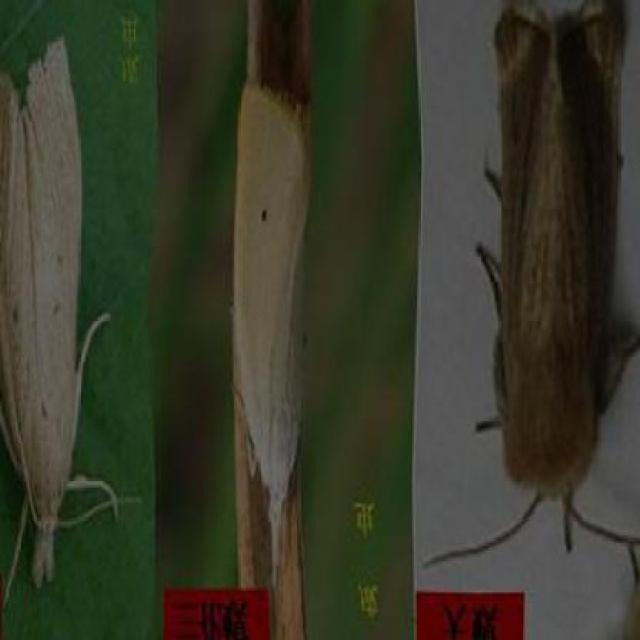stem-borer: (447, 0, 640, 566), (0, 30, 122, 605), (225, 76, 318, 581)
